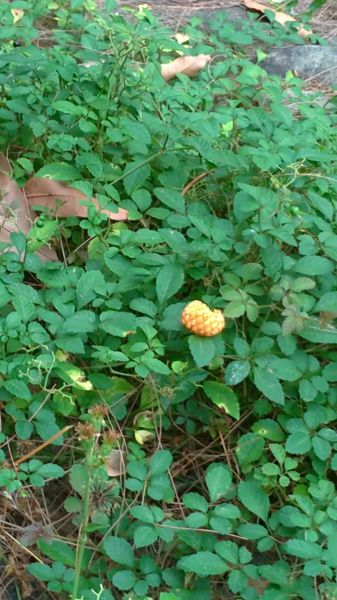eggs: (179, 297, 230, 340)
